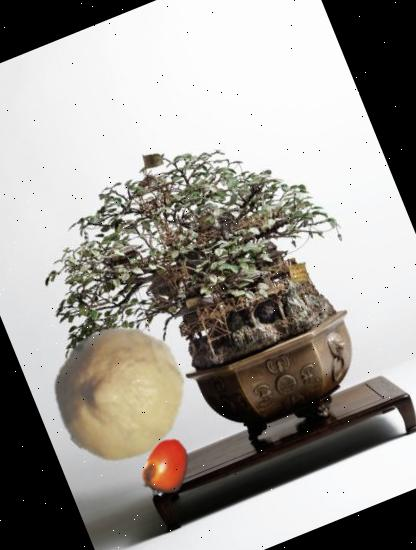Kaki: (128, 428, 204, 504)
Lemon: (30, 303, 206, 480)
